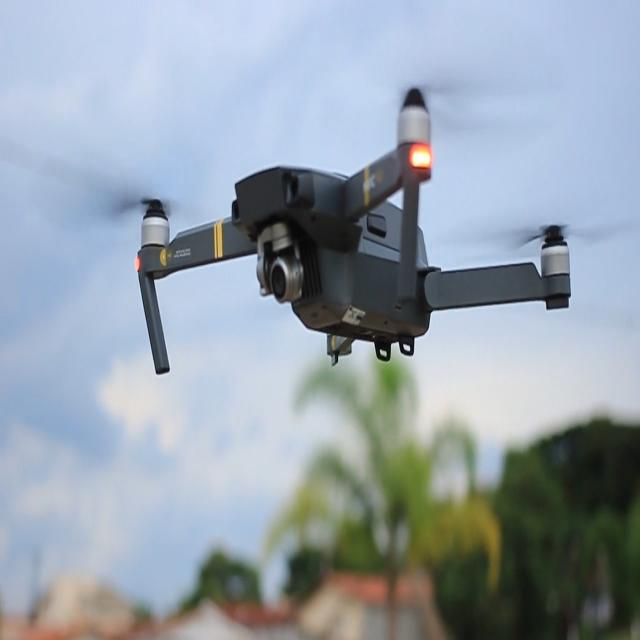Drone: (136, 87, 572, 375)
